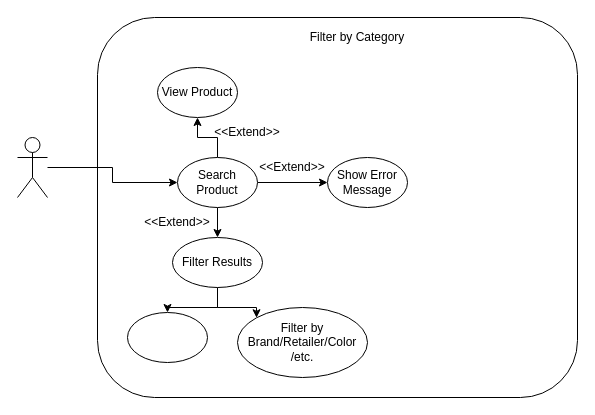
The diagram is 595 pixels wide and 415 high, and some of its shapes have lost their labels. The shapes that lost their labels are listed below. From the top down, each one's box as (x1, y1, x2, y2) in pixels, then its label:
(16, 136, 48, 198): User
(126, 312, 208, 362): Filter by Price
